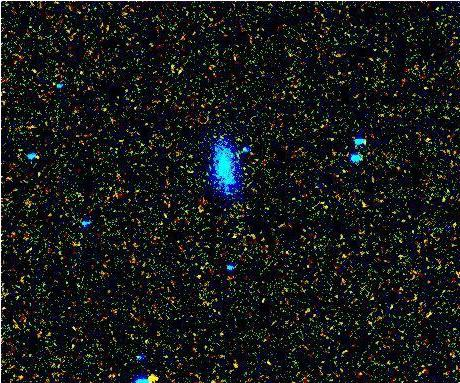star: (137, 364, 167, 383)
